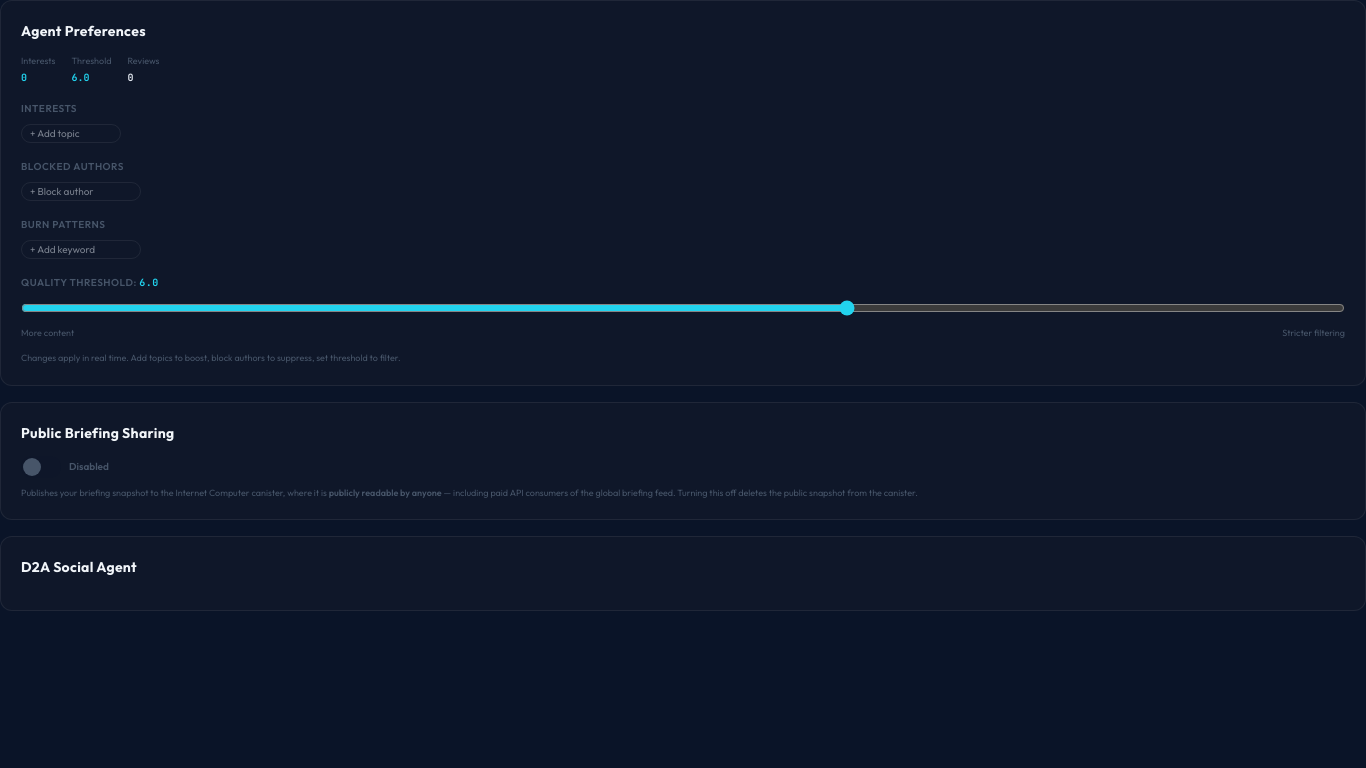
Test case: AgentSection — public briefing sharing toggle › ON failure: does NOT flip client state and shows an error
What coordinates should you click on to do the following:
click the button with test id "aegis-settings-briefing-share-toggle"
I would click on:
 (41, 466)
Its box is [21,456,61,478].
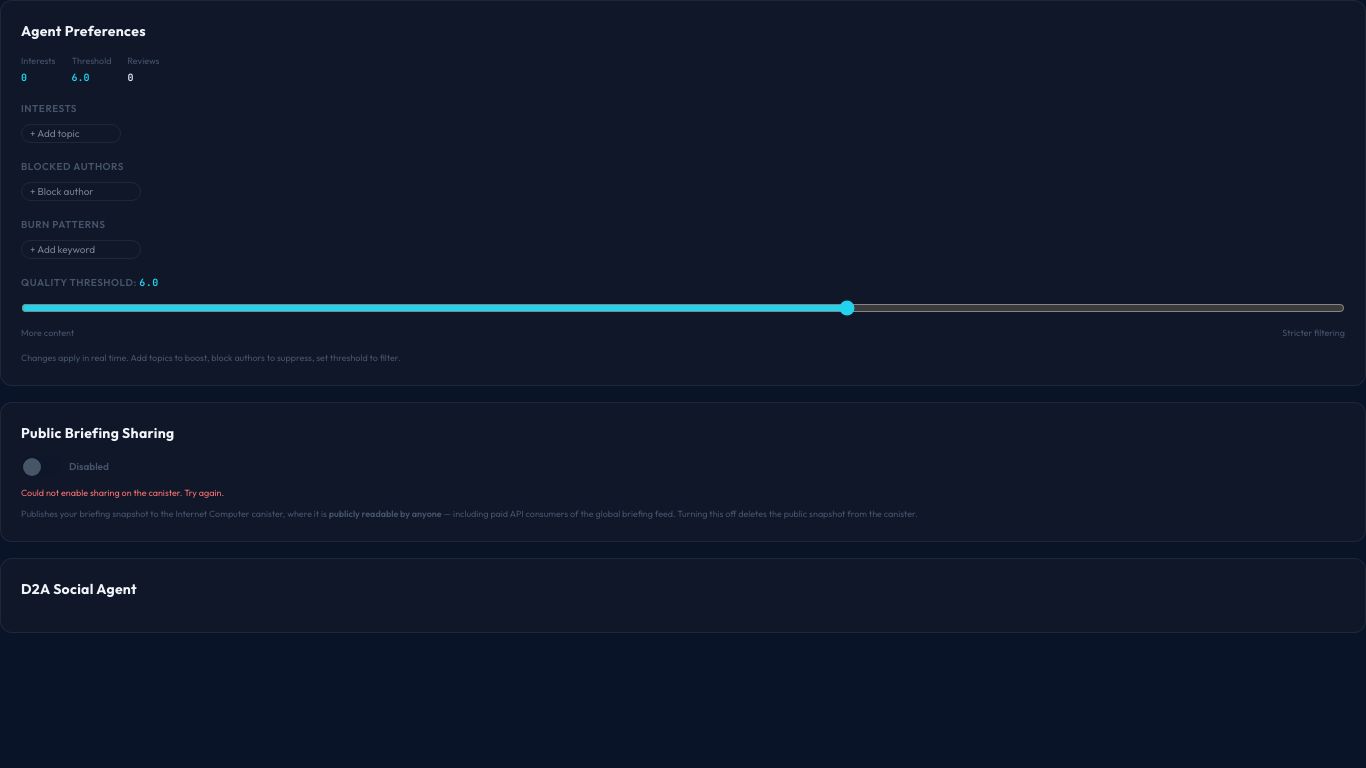
Check: the text "Could not enable sharing on the canister. Try again." is shown, box [21,486,224,498]
